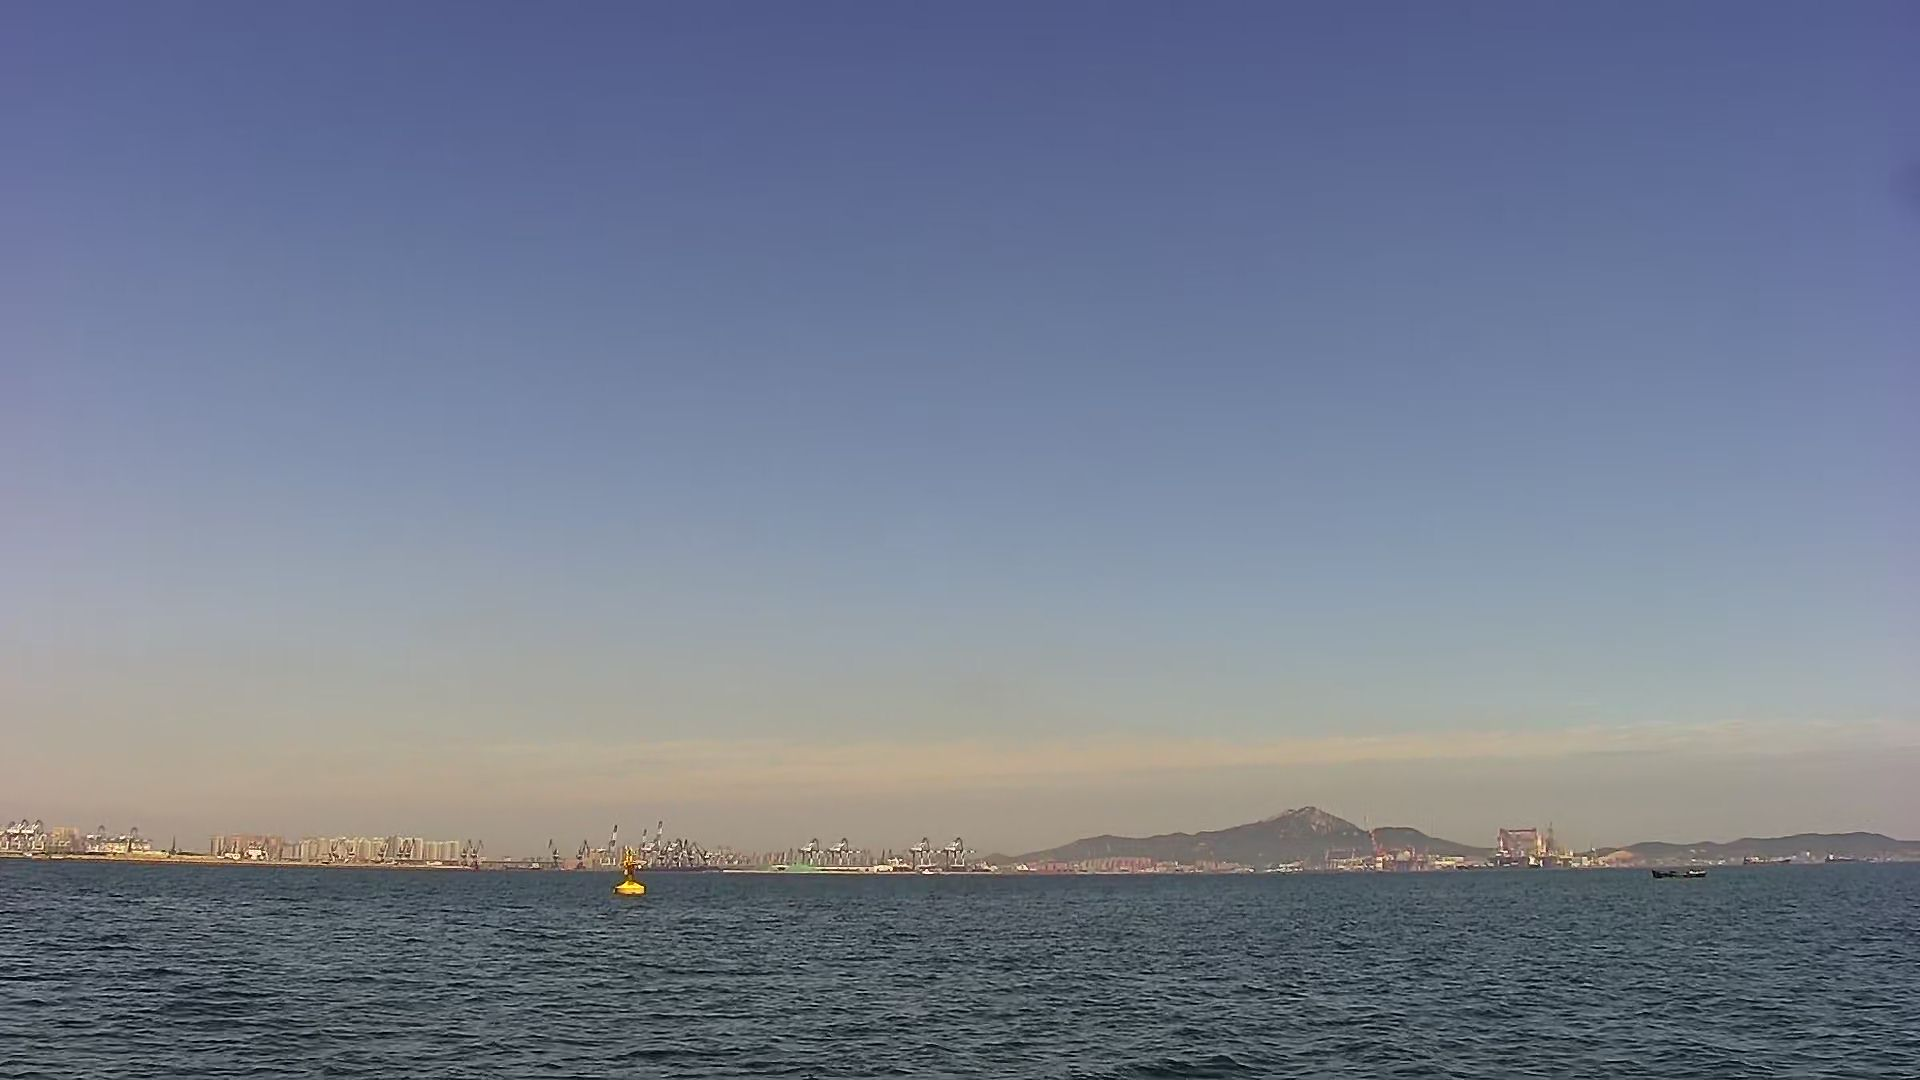boat: (1650, 869, 1712, 878)
buoy: (615, 861, 649, 895)
